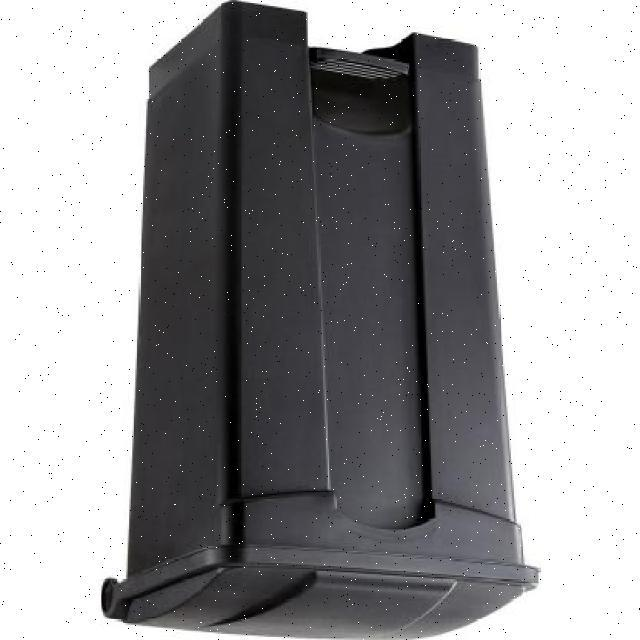garbage container: (90, 2, 553, 640)
